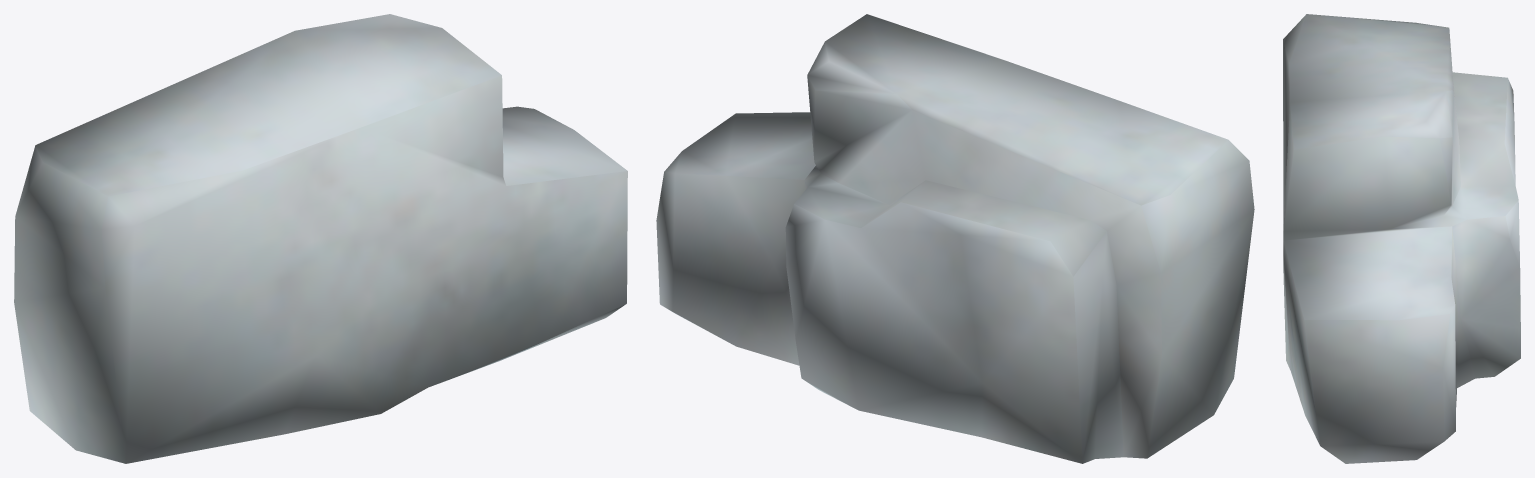
The model's file is P_RockCubic09.obj.
3 views of the same model, side by side, from view 1: azimuth 30°, elevation 25°; view 2: azimuth 150°, elevation 25°; view 3: azimuth 270°, elevation 25° (orthographic). The views are drawn at different scales.
Size of the model in its own units: 6.31 by 3.68 by 2.76.
